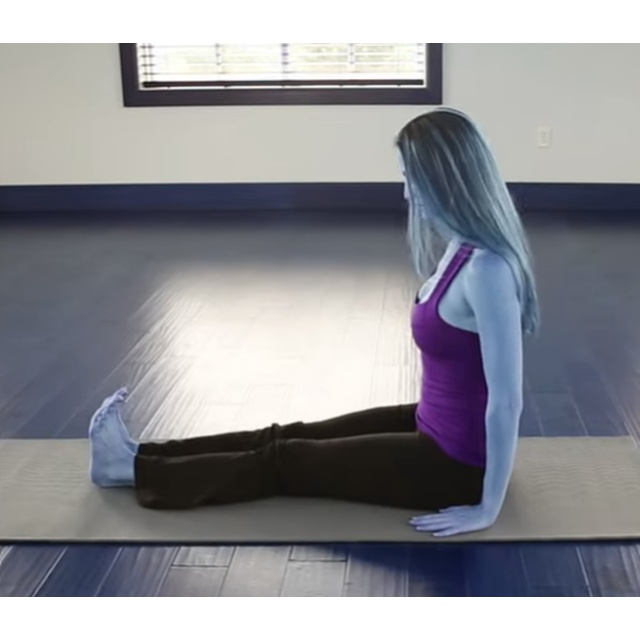Staff_Pose: (88, 103, 533, 535)
